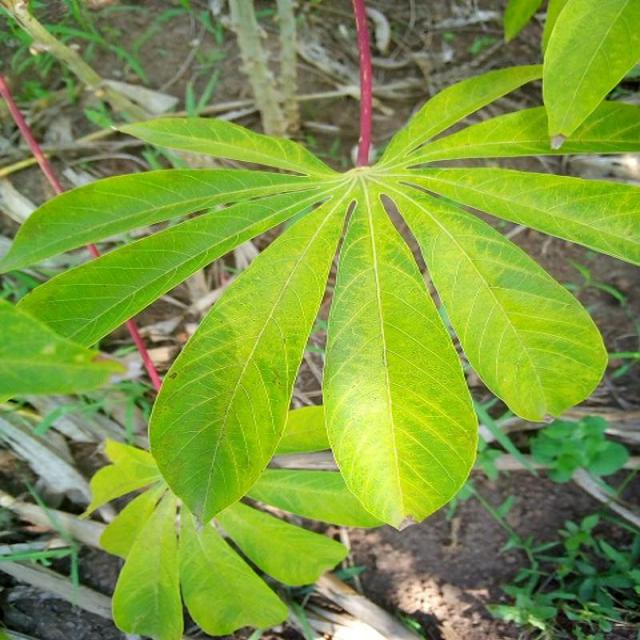cassava leaf: (1, 3, 638, 534), (147, 185, 350, 526), (321, 176, 479, 531)
